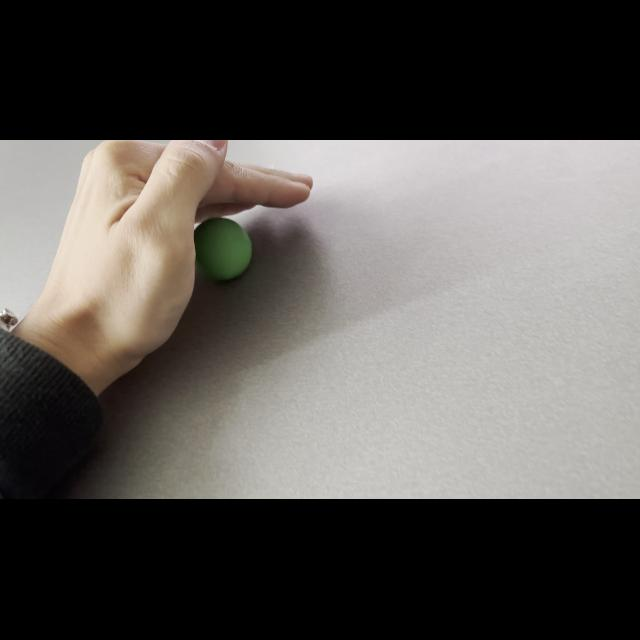objects: (194, 216, 256, 284)
